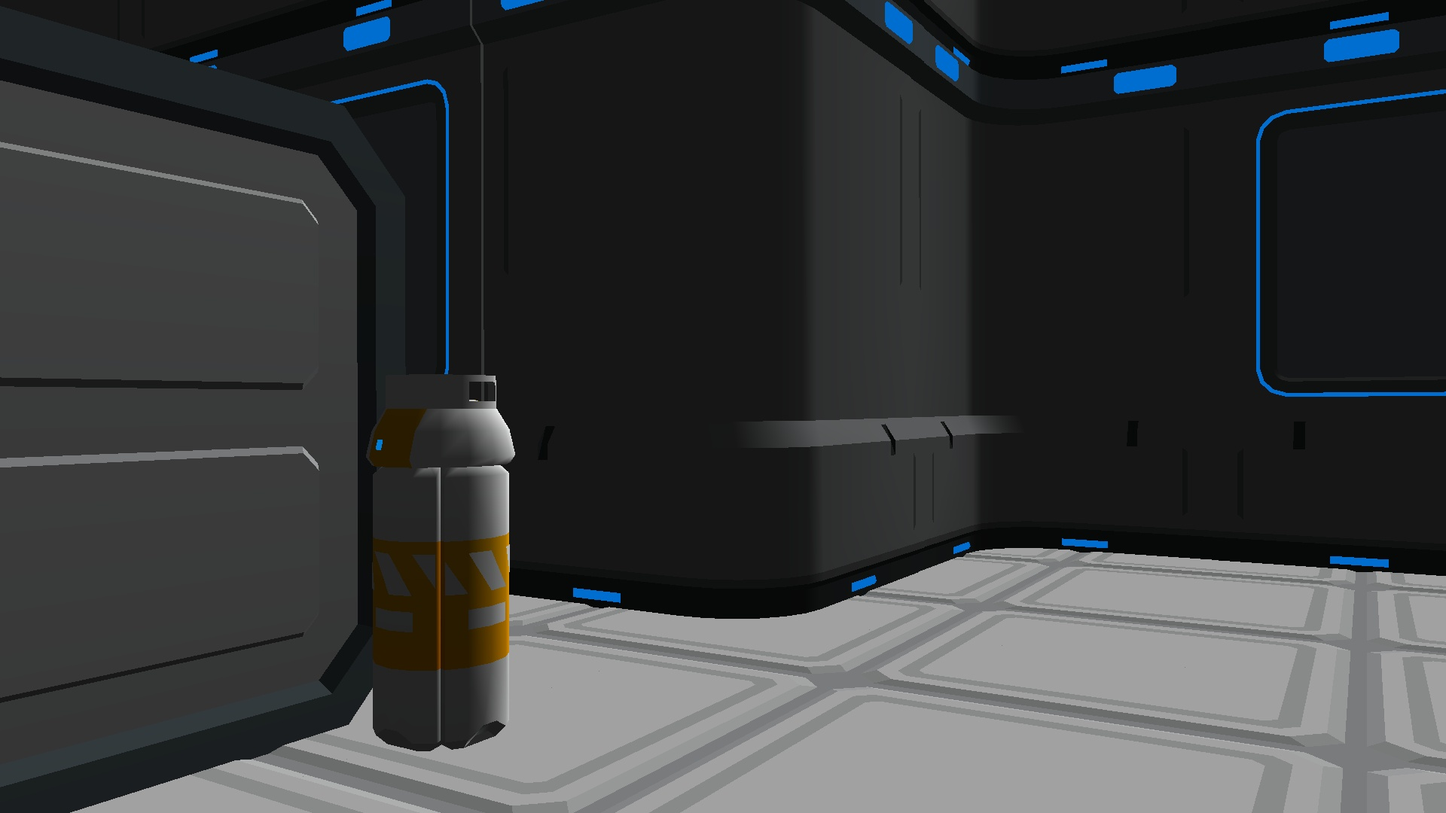yellow barrel: (366, 374, 516, 752)
